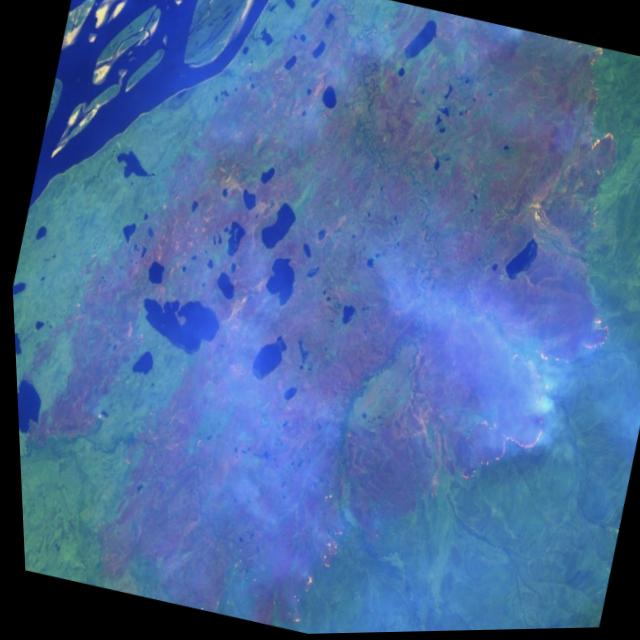fire: (429, 319, 579, 498), (259, 494, 357, 635)
